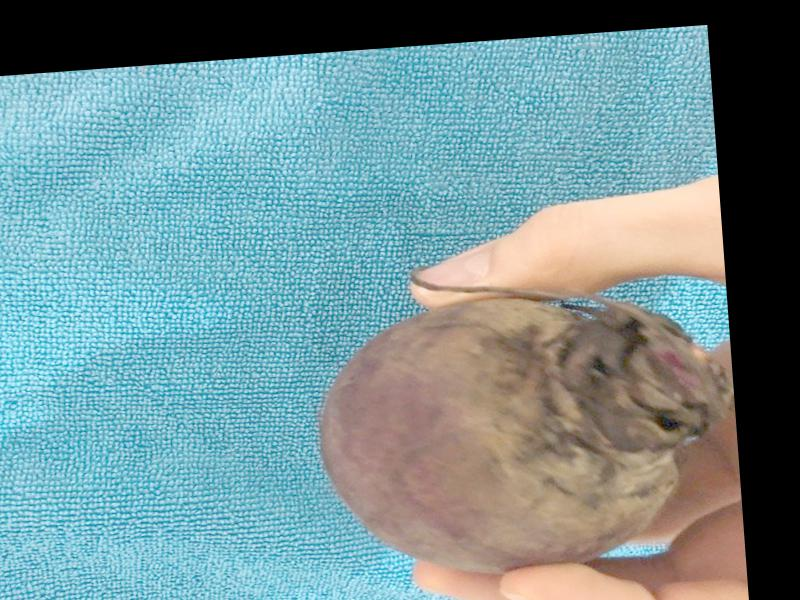Beet: (308, 247, 737, 585)
